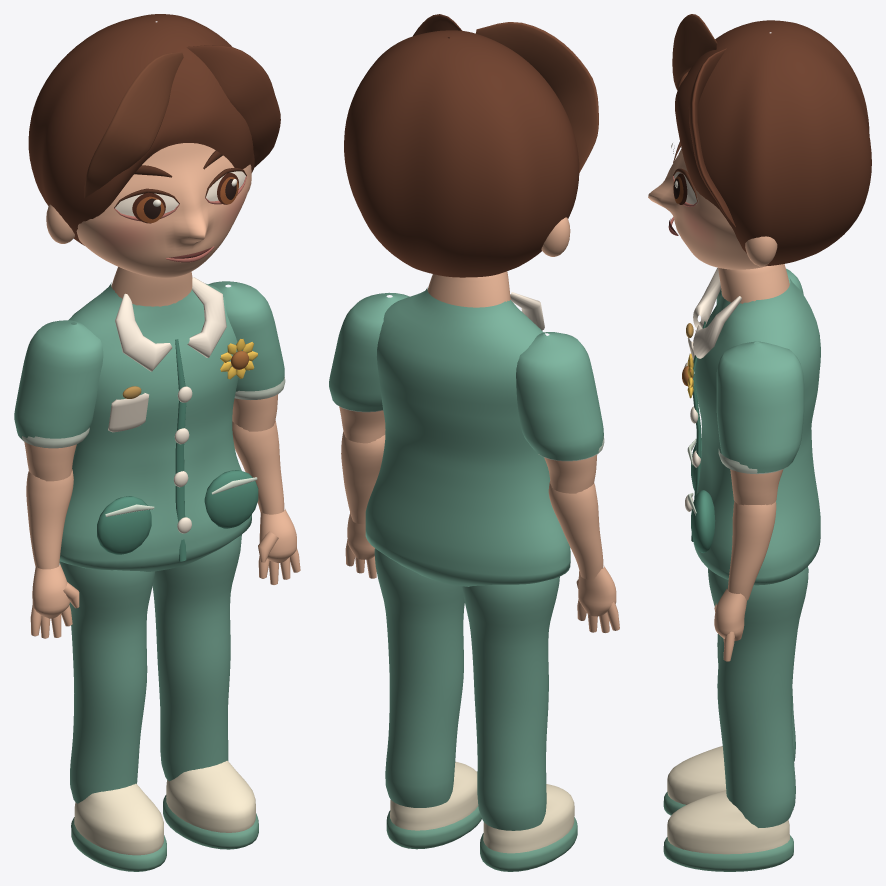
The model's file is minji-v2.glb.
The picture shows the model from 3 angles, left to right: view 1: azimuth 30°, elevation 25°; view 2: azimuth 150°, elevation 25°; view 3: azimuth 270°, elevation 25°; orthographic projection.
Visible parts, largest first — view 1: Head_Surface, Torso_Surface, Leg_L_Surface, Leg_R_Surface, Arm_L_Surface, Arm_R_Surface, Forearm_L_Surface, Forearm_R_Surface, Hand_L_Surface, Hand_R_Surface; view 2: Head_Surface, Torso_Surface, Leg_L_Surface, Leg_R_Surface, Arm_L_Surface, Arm_R_Surface, Forearm_L_Surface, Forearm_R_Surface, Hand_L_Surface, Hand_R_Surface; view 3: Head_Surface, Leg_R_Surface, Torso_Surface, Arm_R_Surface, Forearm_R_Surface, Leg_L_Surface, Hand_R_Surface.
Part boxes in pixels (left/top/right/bottom): Head_Surface: left=28, top=14, right=280, bottom=277; Torso_Surface: left=59, top=267, right=258, bottom=571; Leg_L_Surface: left=59, top=561, right=166, bottom=871; Leg_R_Surface: left=152, top=534, right=258, bottom=849; Arm_L_Surface: left=14, top=320, right=103, bottom=481; Arm_R_Surface: left=208, top=281, right=285, bottom=431; Forearm_L_Surface: left=26, top=469, right=73, bottom=569; Forearm_R_Surface: left=232, top=420, right=284, bottom=514; Hand_L_Surface: left=30, top=564, right=79, bottom=638; Hand_R_Surface: left=258, top=509, right=300, bottom=584; Head_Surface: left=344, top=14, right=598, bottom=277; Torso_Surface: left=365, top=271, right=570, bottom=586; Leg_L_Surface: left=462, top=576, right=577, bottom=871; Leg_R_Surface: left=374, top=548, right=481, bottom=849; Arm_L_Surface: left=516, top=332, right=604, bottom=493; Arm_R_Surface: left=329, top=292, right=409, bottom=443; Forearm_L_Surface: left=548, top=481, right=603, bottom=579; Forearm_R_Surface: left=341, top=431, right=385, bottom=524; Hand_L_Surface: left=576, top=566, right=619, bottom=632; Hand_R_Surface: left=345, top=512, right=376, bottom=578; Head_Surface: left=648, top=14, right=871, bottom=269; Leg_R_Surface: left=663, top=566, right=808, bottom=871; Torso_Surface: left=682, top=264, right=820, bottom=585; Arm_R_Surface: left=716, top=341, right=804, bottom=505; Forearm_R_Surface: left=727, top=501, right=776, bottom=600; Leg_L_Surface: left=663, top=634, right=795, bottom=815; Hand_R_Surface: left=714, top=588, right=746, bottom=661.
Size of the model in its own units: 0.7142 by 2.03 by 0.5099.
